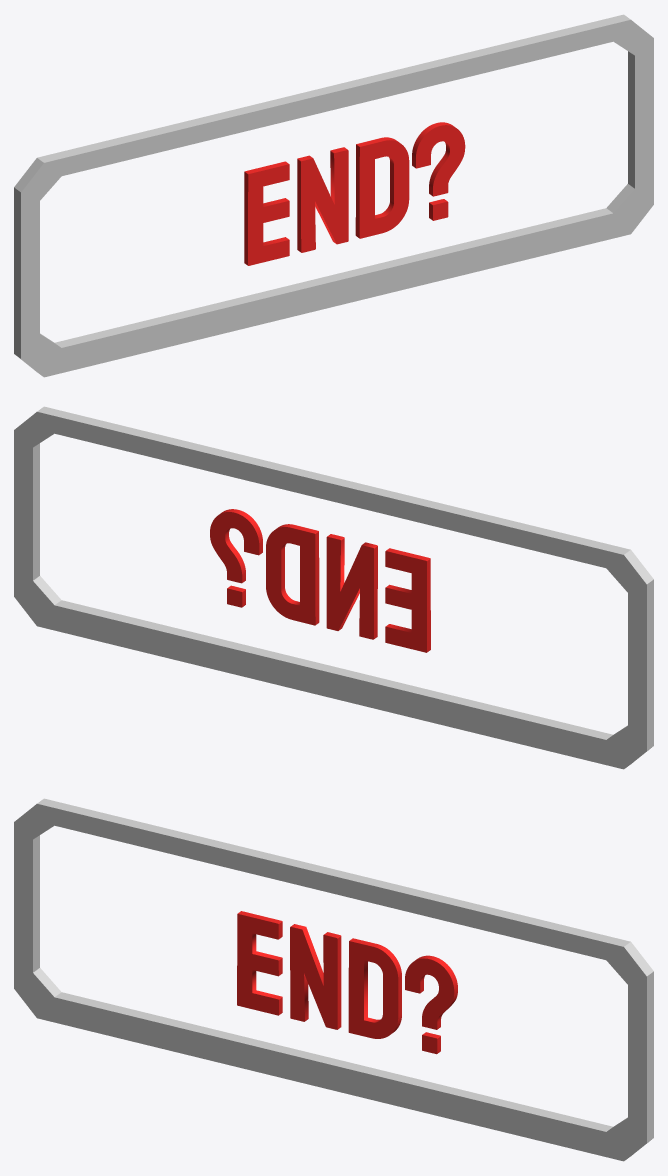
Rendered from End.fbx.
The picture shows the model from 3 angles, top to bottom: view 1: azimuth 30°, elevation 25°; view 2: azimuth 150°, elevation 25°; view 3: azimuth 330°, elevation 25°; orthographic projection.
Parts seen in each view (by area): view 1: TextRam, Text.001; view 2: TextRam, Text.001; view 3: TextRam, Text.001.
Part boxes in pixels (x1,y1,x2,y2): TextRam: [14, 14, 653, 377]; Text.001: [244, 122, 465, 265]; TextRam: [14, 406, 653, 769]; Text.001: [210, 509, 430, 652]; TextRam: [14, 798, 653, 1161]; Text.001: [237, 911, 457, 1054].
Size of the model in its own units: 5.25 by 1.7 by 0.13.
